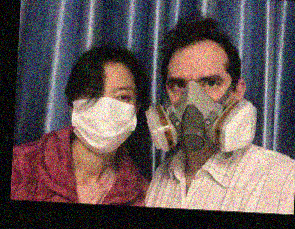with_mask: (162, 70, 233, 155), (69, 82, 137, 153)
